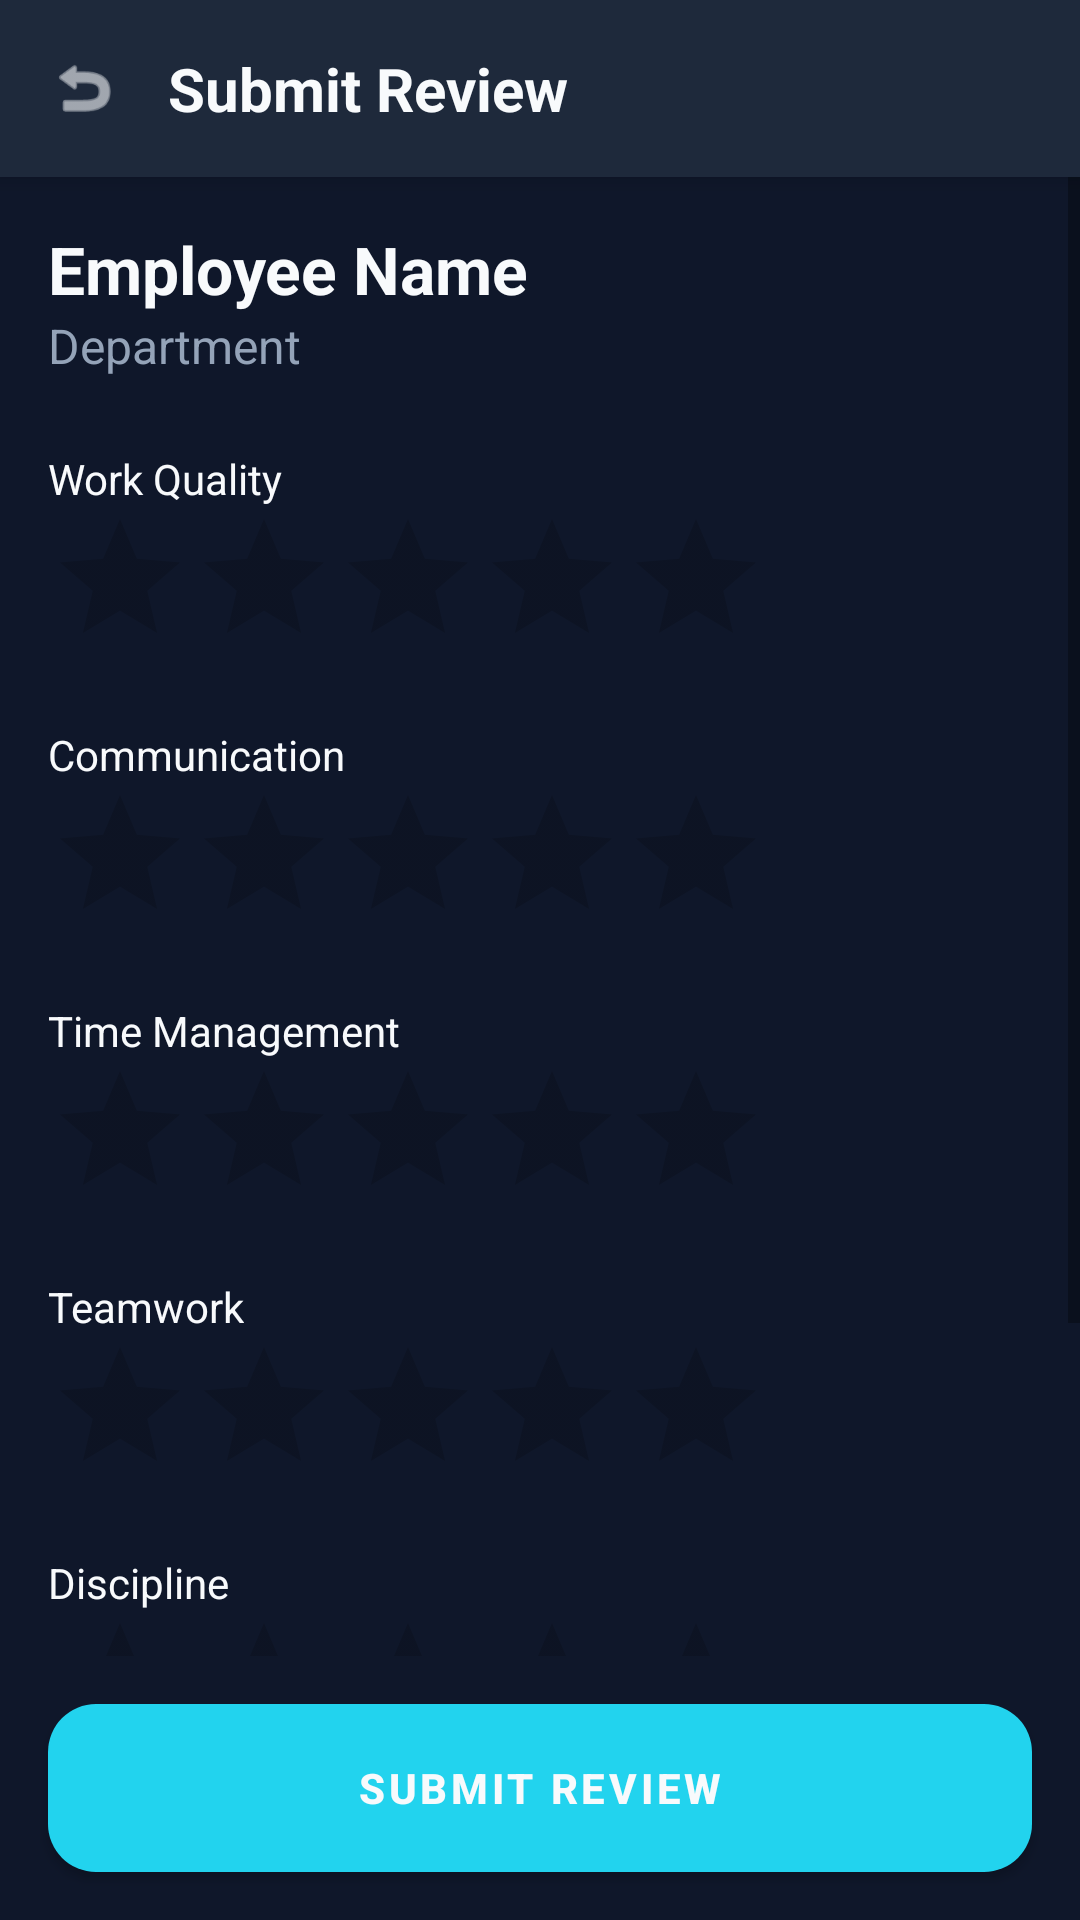

Icons on this 1080px×1920px Android screen, each with its box as (x1, y1, x2, y2):
revert: (59, 65, 111, 112)
